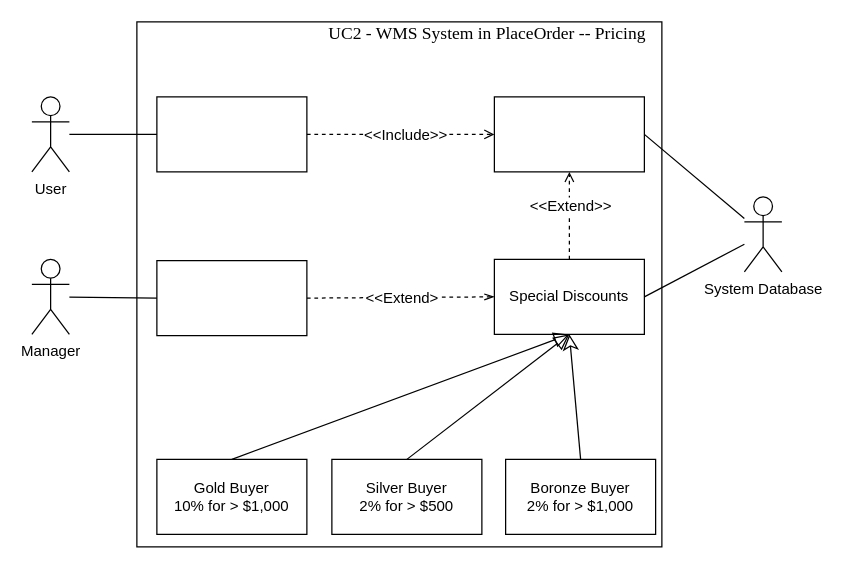
Some shapes in this 844 by 569 pixel diagram are drawn without their labels. The centre of each missing label's shape, as x and y in pixels:
"No Conditons 10%" goes at (231,297).
"PlaceOrder Session (After authentication)" goes at (231,134).
"Pricing" goes at (568,134).
